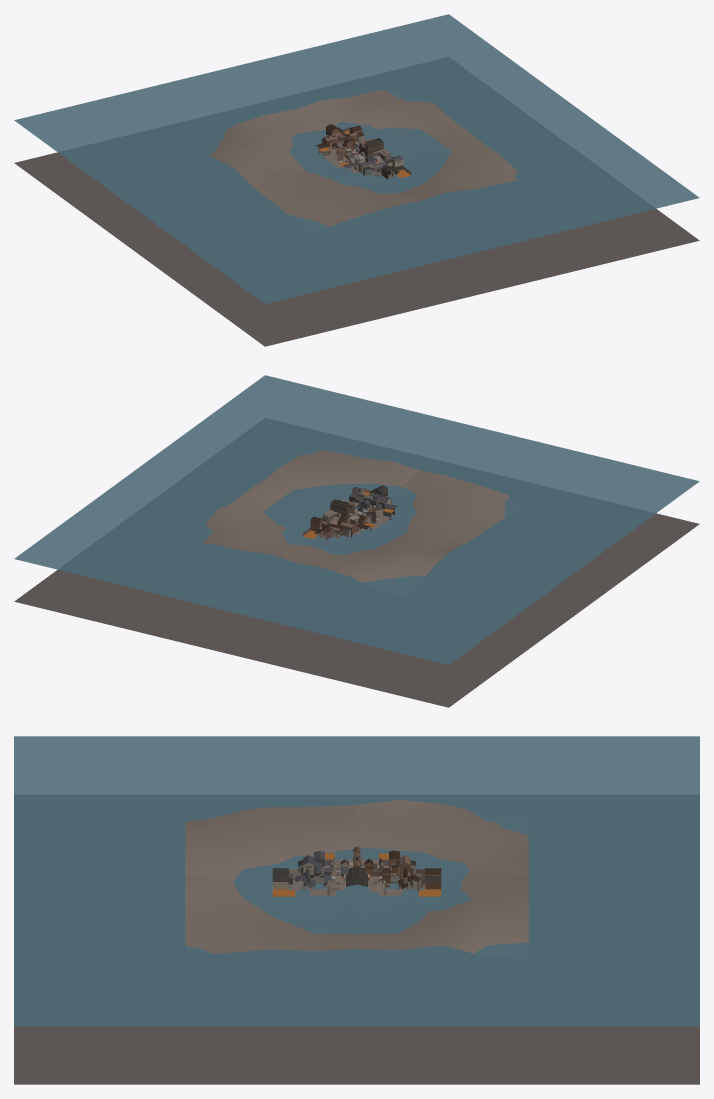
The model's file is world.glb.
The picture shows the model from 3 angles, top to bottom: view 1: azimuth 30°, elevation 25°; view 2: azimuth 150°, elevation 25°; view 3: azimuth 270°, elevation 25°; orthographic projection. The views are drawn at different scales.
Parts seen in each view (by area): view 1: skybox_3d_mesh; view 2: skybox_3d_mesh; view 3: skybox_3d_mesh.
Boxes of the visible parts, <box> form: skybox_3d_mesh: <box>14,14,699,346</box>; skybox_3d_mesh: <box>14,375,699,707</box>; skybox_3d_mesh: <box>14,736,699,1084</box>.
Bounding box in the file's own units: 32767 × 4201 × 32769.
